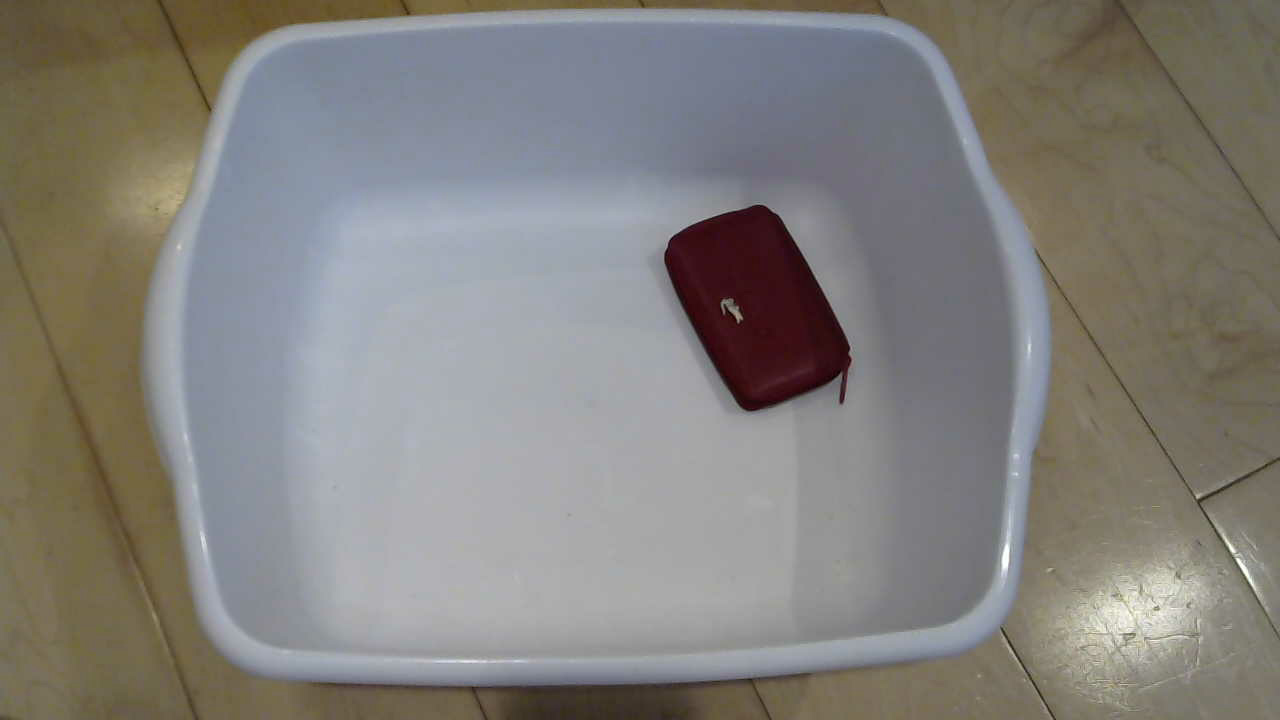wallet: (637, 190, 873, 430)
